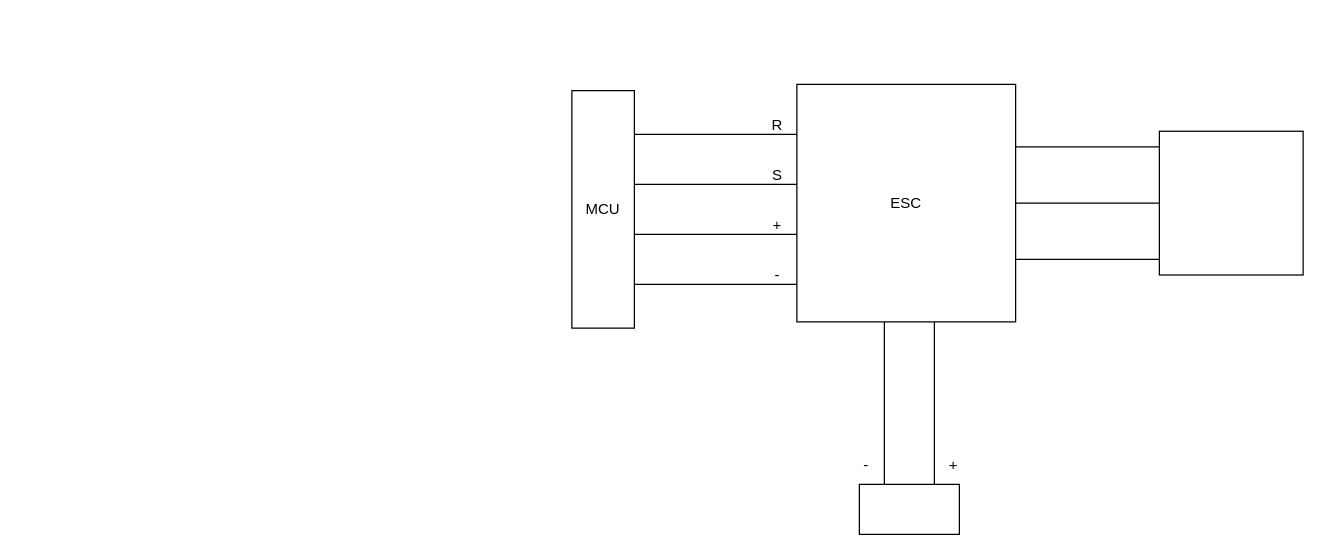
Some shapes in this 1325 by 556 pixel diagram are drawn without their labels. Each missing label, with the centre of its shape:
Battery: (x=908, y=508)
Motor: (x=1230, y=202)
